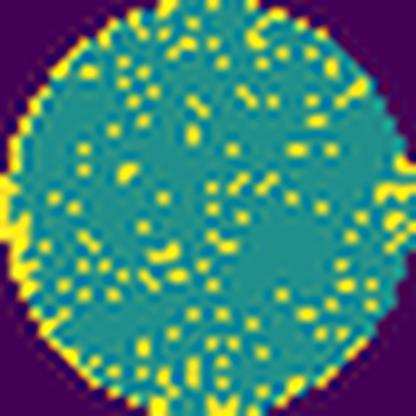Edge-Loc: (0, 175, 50, 301)
